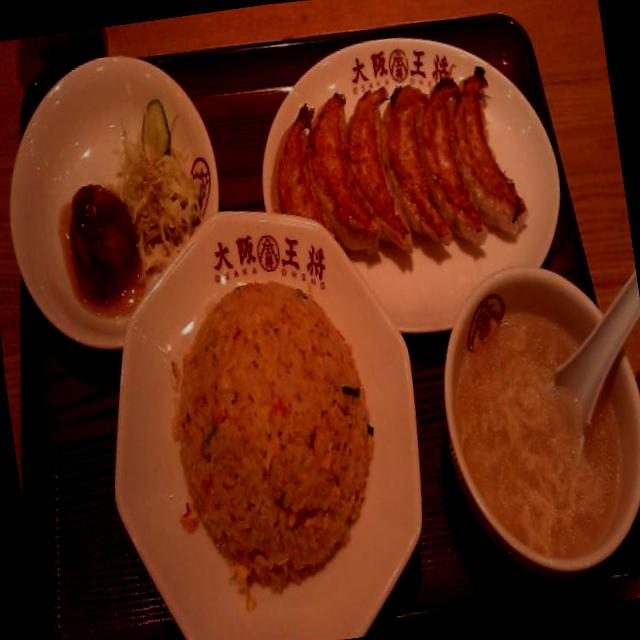Green Salad: (110, 77, 219, 278)
